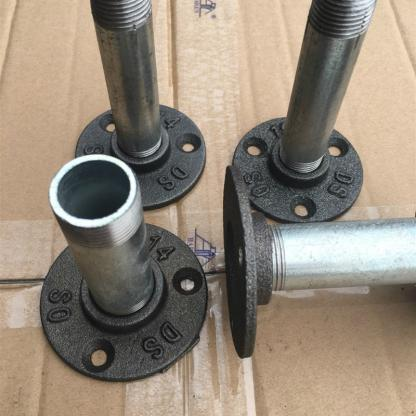FOD: (38, 220, 212, 384), (74, 100, 209, 212), (233, 111, 366, 224), (218, 161, 278, 362)
